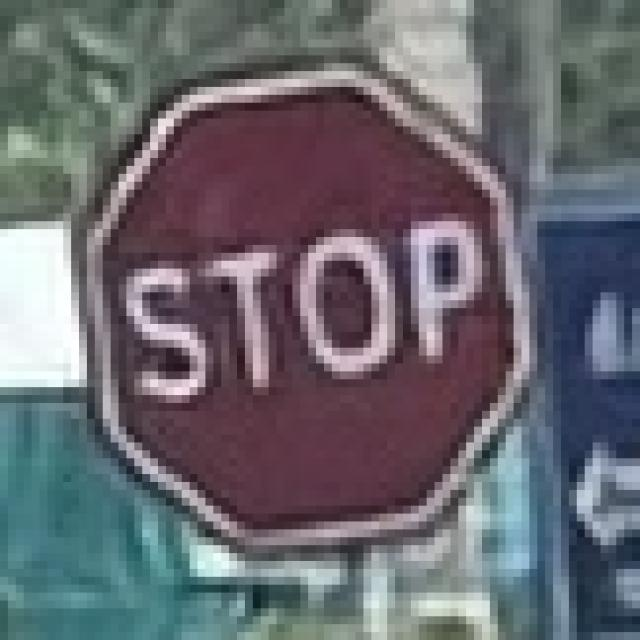STOP: (71, 47, 549, 560)
